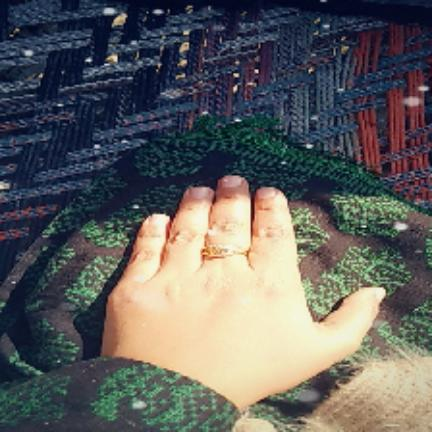Nail: (189, 186, 210, 198), (221, 176, 242, 188), (257, 187, 278, 199), (151, 214, 166, 227), (376, 288, 386, 304)
